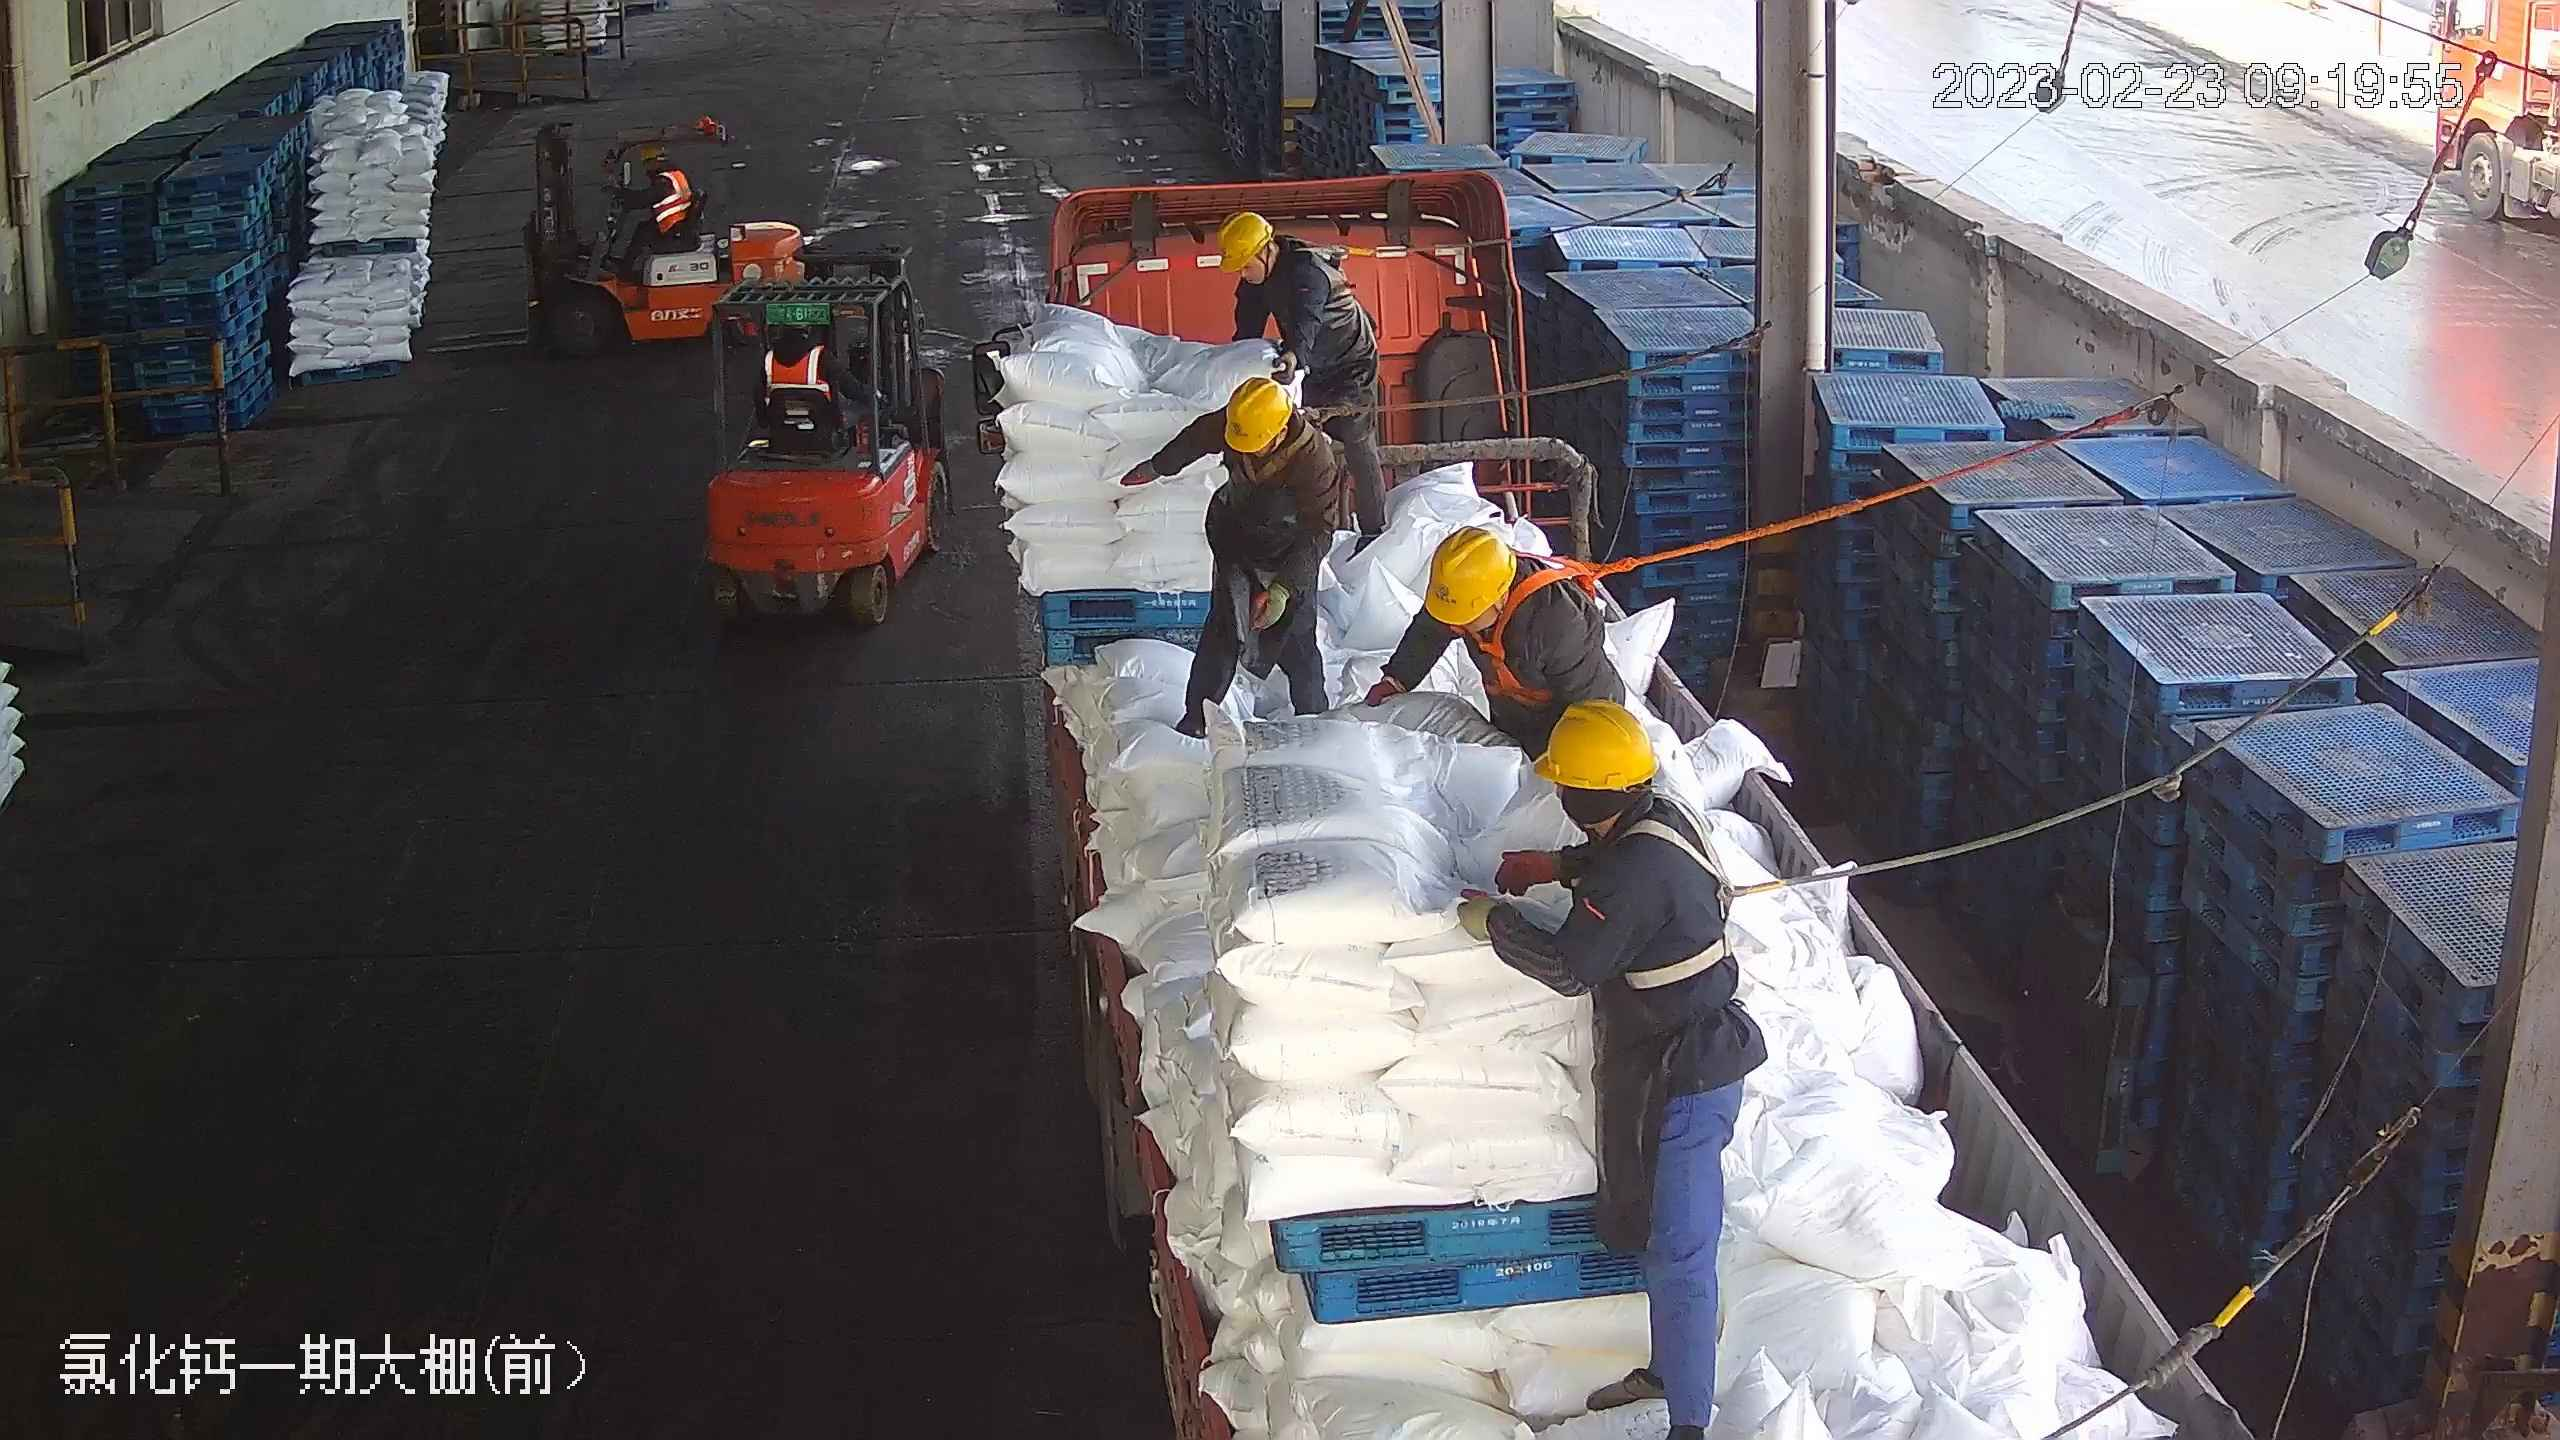belt: (1599, 793, 1780, 985), (1467, 553, 1628, 701), (1235, 401, 1344, 484), (1311, 243, 1381, 288)
head: (1536, 698, 1725, 916), (1413, 522, 1589, 665), (1204, 377, 1335, 488), (1213, 212, 1335, 312), (637, 146, 685, 192)
helmet: (1531, 699, 1657, 788), (1422, 525, 1512, 625), (1222, 374, 1295, 451), (1212, 211, 1276, 271), (639, 146, 664, 164)
people: (1452, 700, 1767, 1435), (1112, 374, 1351, 738), (1218, 205, 1392, 547), (608, 146, 691, 266)
truck: (1001, 144, 2232, 1435)
